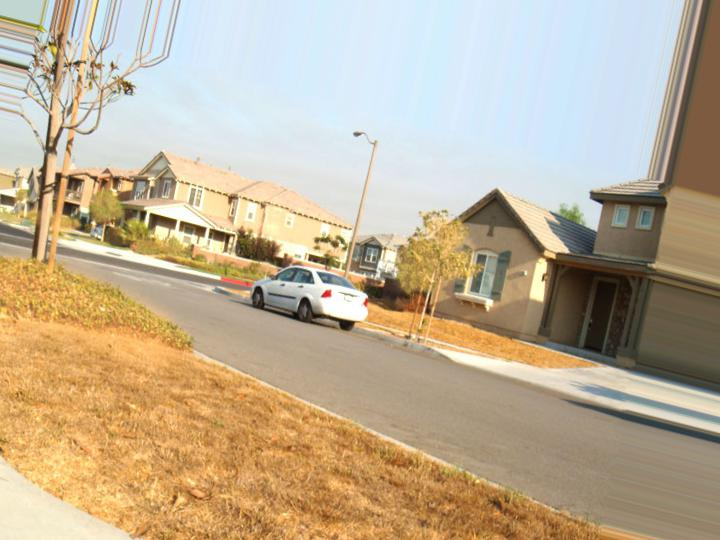patch: (10, 302, 509, 531), (389, 308, 558, 368)
